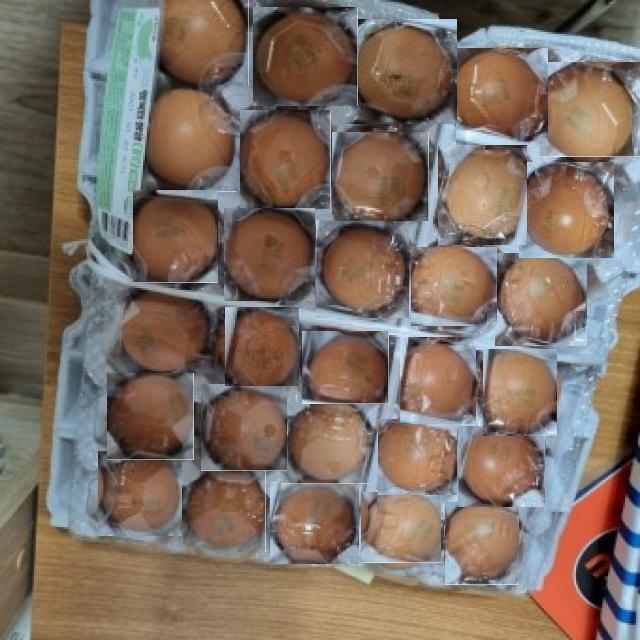eggs: (347, 18, 455, 126), (255, 6, 356, 108), (143, 87, 237, 192), (542, 60, 640, 158), (438, 142, 528, 246), (314, 221, 410, 317), (519, 162, 615, 258), (240, 110, 331, 210), (454, 49, 549, 144), (332, 132, 429, 222), (494, 254, 588, 346), (224, 208, 316, 302), (130, 191, 220, 281), (156, 0, 249, 86), (107, 373, 194, 460), (270, 480, 360, 564), (200, 384, 286, 471), (282, 401, 370, 484), (458, 426, 546, 508), (97, 452, 182, 536), (412, 245, 496, 329), (397, 339, 479, 422), (119, 292, 208, 368), (479, 352, 560, 434), (187, 468, 266, 552), (302, 331, 389, 404), (442, 504, 520, 582), (378, 418, 456, 496), (223, 308, 300, 386), (362, 490, 438, 566)
